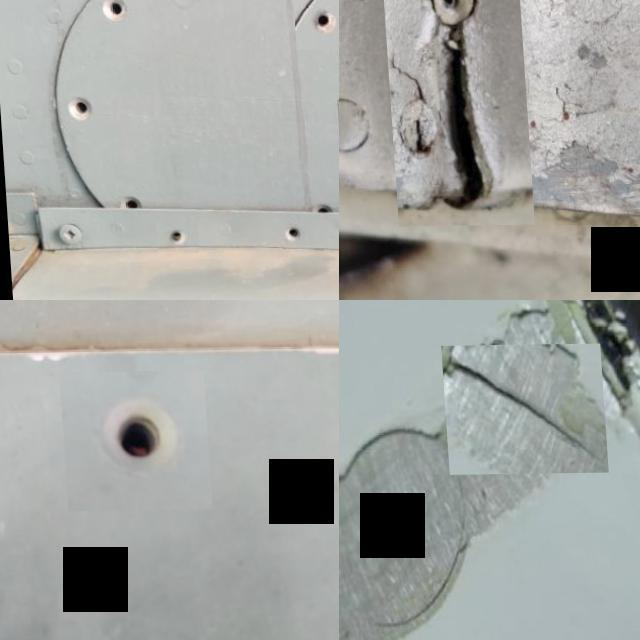Crack: (380, 0, 528, 227), (439, 347, 603, 474)
Missing_Fastener: (56, 372, 207, 512), (50, 82, 106, 138), (104, 179, 154, 229), (291, 0, 339, 50), (290, 184, 339, 232), (86, 0, 138, 37), (151, 217, 194, 254), (265, 215, 305, 251)
